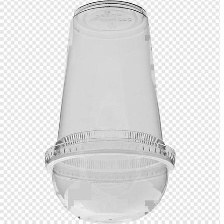glass: (35, 0, 180, 224)
